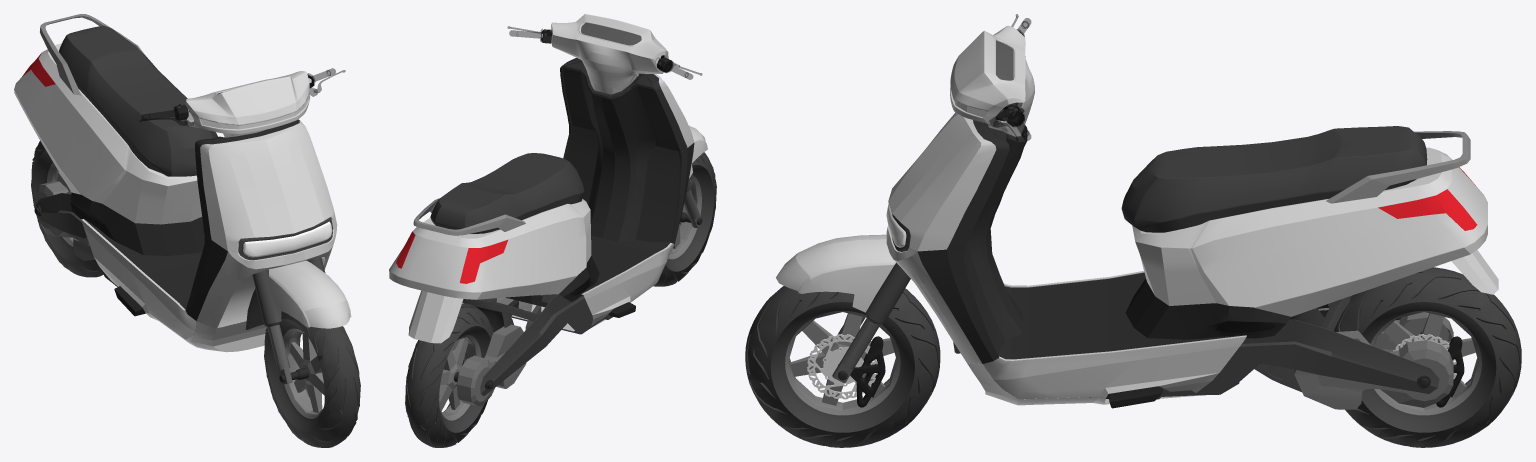
3 views of the same model, side by side, from view 1: azimuth 30°, elevation 25°; view 2: azimuth 150°, elevation 25°; view 3: azimuth 270°, elevation 25° (orthographic). The views are drawn at different scales.
Visible parts, largest first — view 1: maya to blend.006, maya to blend.035, maya to blend.037, tire, maya to blend.015, maya to blend.017, maya to blend.025, maya to blend.011, maya to blend.008, maya to blend.009, maya to blend.021, maya to blend.003 (+8 smaller); view 2: maya to blend.010, maya to blend.035, tire, maya to blend.037, maya to blend.015, maya to blend.006, maya to blend.003, maya to blend.011, maya to blend.017, maya to blend.019, maya to blend.008, maya to blend.009 (+9 smaller); view 3: tire, maya to blend.035, maya to blend.006, maya to blend.037, maya to blend.009, maya to blend.003, maya to blend.011, maya to blend.017, maya to blend.015, maya to blend.008, maya to blend.019, maya to blend.010 (+8 smaller).
Boxes of the visible parts, bbox=[...] form: maya to blend.006: bbox=[81, 121, 336, 352]; maya to blend.035: bbox=[14, 43, 202, 224]; maya to blend.037: bbox=[59, 25, 217, 176]; tire: bbox=[31, 141, 360, 447]; maya to blend.015: bbox=[185, 71, 310, 137]; maya to blend.017: bbox=[245, 260, 351, 329]; maya to blend.025: bbox=[71, 192, 204, 255]; maya to blend.011: bbox=[47, 162, 324, 418]; maya to blend.008: bbox=[185, 119, 299, 320]; maya to blend.009: bbox=[85, 219, 202, 309]; maya to blend.021: bbox=[238, 217, 333, 260]; maya to blend.003: bbox=[36, 132, 258, 326]; maya to blend.010: bbox=[563, 62, 679, 242]; maya to blend.035: bbox=[389, 199, 591, 299]; tire: bbox=[405, 152, 716, 447]; maya to blend.037: bbox=[430, 153, 584, 233]; maya to blend.015: bbox=[551, 14, 668, 94]; maya to blend.006: bbox=[496, 57, 694, 331]; maya to blend.003: bbox=[474, 294, 612, 396]; maya to blend.011: bbox=[439, 175, 701, 420]; maya to blend.017: bbox=[408, 126, 707, 343]; maya to blend.019: bbox=[452, 324, 526, 406]; maya to blend.008: bbox=[560, 58, 694, 243]; maya to blend.009: bbox=[578, 236, 670, 294]; tire: bbox=[745, 267, 1521, 447]; maya to blend.035: bbox=[1132, 147, 1487, 316]; maya to blend.006: bbox=[886, 112, 1246, 405]; maya to blend.037: bbox=[1121, 126, 1427, 232]; maya to blend.009: bbox=[998, 272, 1244, 359]; maya to blend.003: bbox=[995, 102, 1439, 399]; maya to blend.011: bbox=[785, 310, 1481, 415]; maya to blend.017: bbox=[776, 234, 1498, 353]; maya to blend.015: bbox=[950, 25, 1034, 136]; maya to blend.008: bbox=[917, 120, 1009, 363]; maya to blend.019: bbox=[1294, 308, 1453, 409]; maya to blend.010: bbox=[963, 125, 1027, 353].
Bounding box in the file's own units: 6.59 × 9.71 × 17.23.
